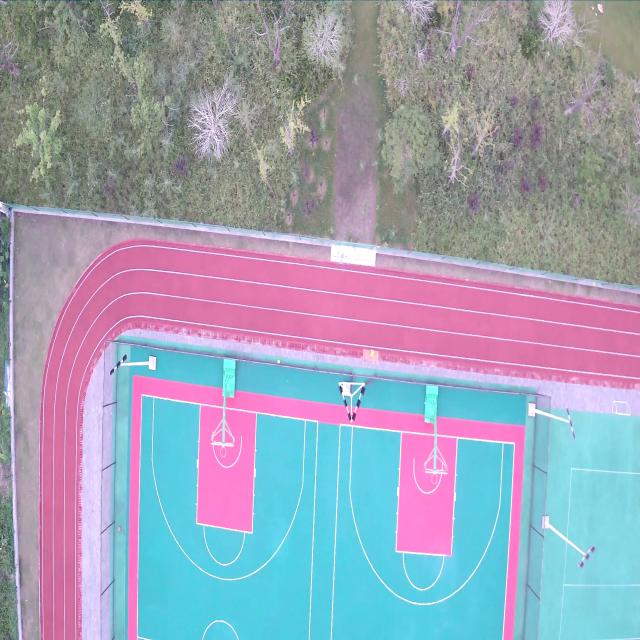UAV: (336, 249, 347, 269)
